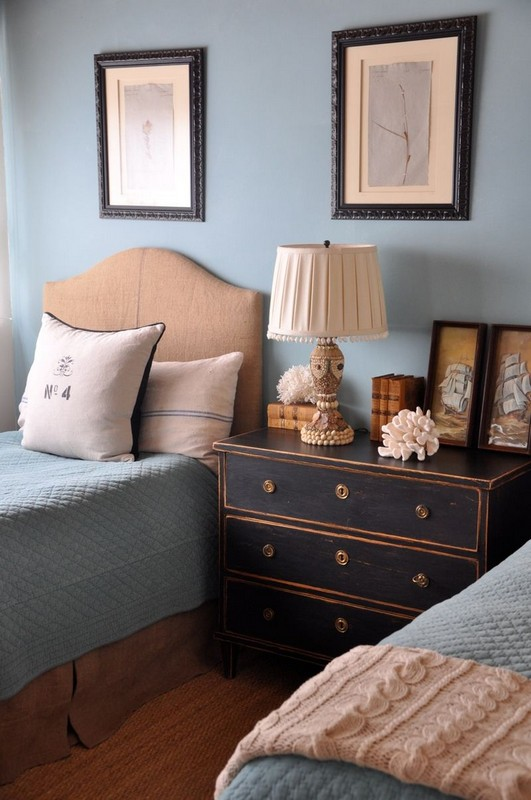bed: (9, 251, 258, 683)
lamp: (264, 225, 392, 464)
stool: (214, 428, 522, 679)
